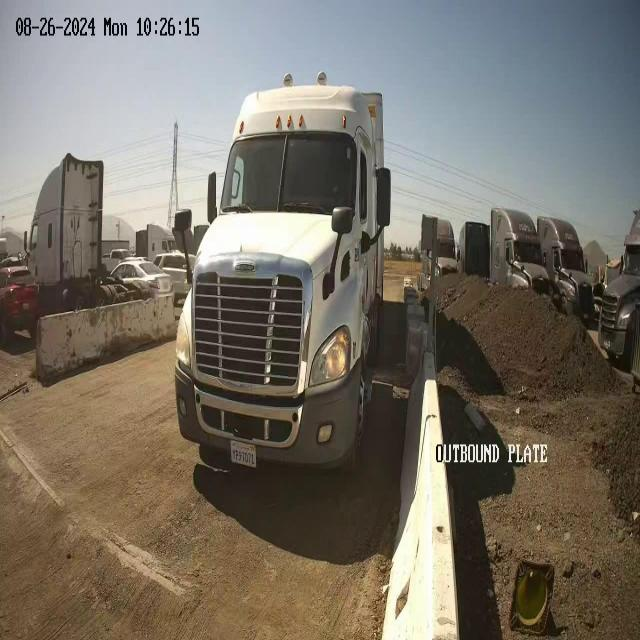TRUCK_CONTAINER: (173, 71, 391, 476)
